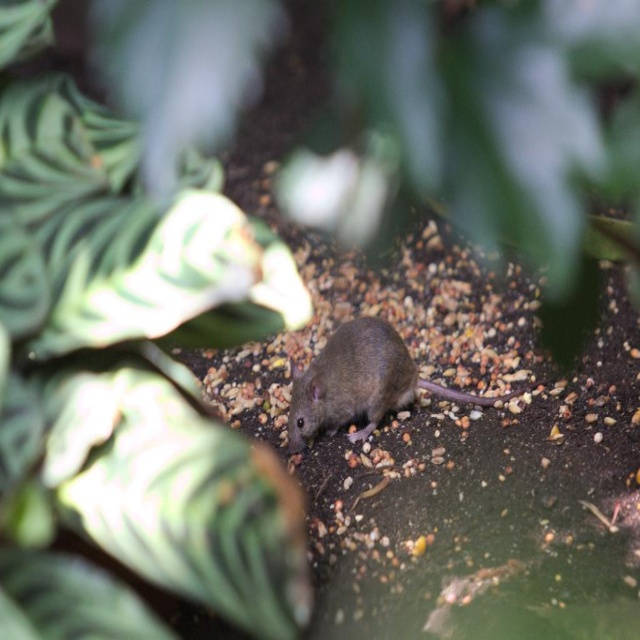Mouse: (285, 318, 521, 441)
